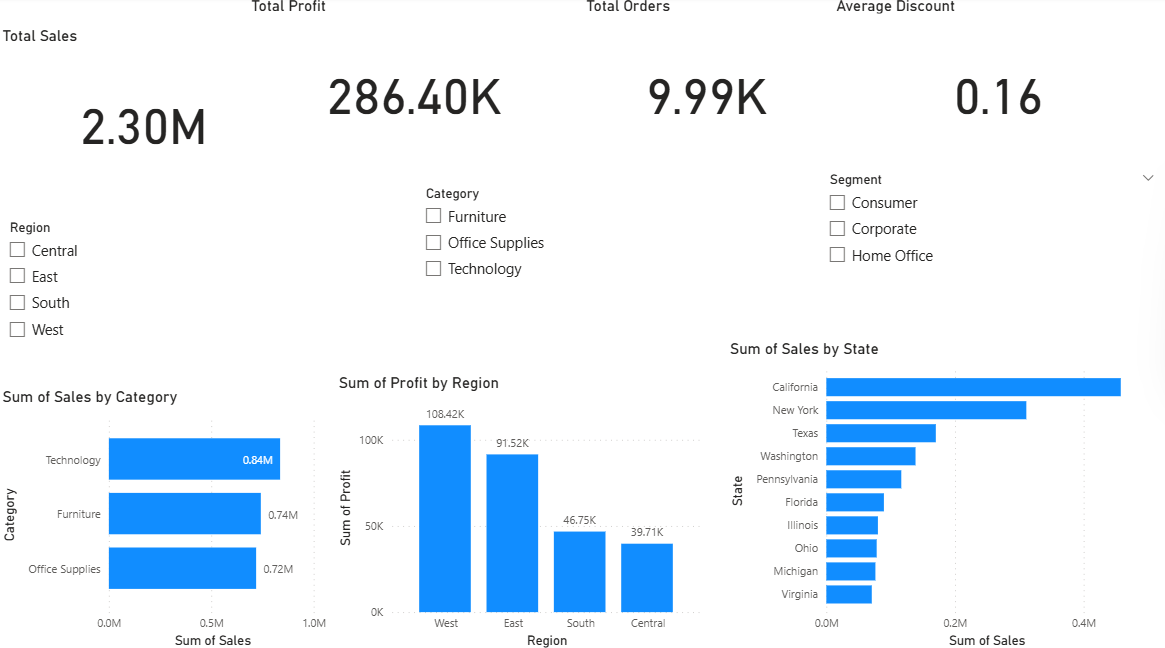

The dashboard page shown, as its layout file describes it:
{"tool":"powerbi","page":{"name":"Page 1","canvas":[1280,720],"ordinal":0},"visuals":[{"type":"card","title":"Total Sales","fields":{"Values":["Sum(cleaned_superstore.Sales)"]},"box":[0,32.9,319.5,187.8],"z":0},{"type":"card","title":"Total Profit","fields":{"Values":["Sum(cleaned_superstore.Profit)"]},"box":[272.8,0,367.4,187.8],"z":1000},{"type":"card","title":"Average Discount","fields":{"Values":["Avg(cleaned_superstore.Discount)"]},"box":[914.5,0,366.1,187.8],"z":2000},{"type":"card","title":"Total Orders","fields":{"Values":["CountNonNull(cleaned_superstore.Sales)"]},"box":[640.3,0,274.2,187.8],"z":3000},{"type":"clusteredBarChart","fields":{"Category":["cleaned_superstore.Category"],"Y":["Sum(cleaned_superstore.Sales)"]},"box":[0,429.1,368.8,290.7],"z":3001},{"type":"clusteredColumnChart","fields":{"Category":["cleaned_superstore.Region"],"Y":["Sum(cleaned_superstore.Profit)"]},"box":[368.8,414.1,408.6,305.7],"z":3002},{"type":"clusteredBarChart","fields":{"Category":["cleaned_superstore.State"],"Y":["Sum(cleaned_superstore.Sales)"]},"box":[797.9,377,482.6,342.8],"z":3003},{"type":"slicer","fields":{"Values":["cleaned_superstore.Region"]},"box":[0,239.9,357.8,174.1],"z":3004},{"type":"slicer","fields":{"Values":["cleaned_superstore.Category"]},"box":[456.6,202.9,319.5,174.1],"z":3005},{"type":"slicer","fields":{"Values":["cleaned_superstore.Segment"]},"box":[899.4,187.8,381.2,149.4],"z":3006}]}

Visuals, with their boxes in screenshot pixels (x1, y1, x2, y2), scaled from the page's 1280x720 canvas onto the 1165x648 screenshot:
"Total Sales" card: 0,30,291,199
"Total Profit" card: 248,0,583,169
"Average Discount" card: 832,0,1164,169
"Total Orders" card: 583,0,832,169
clusteredBarChart - cleaned_superstore.Category x Sum(cleaned_superstore.Sales): 0,386,336,647
clusteredColumnChart - cleaned_superstore.Region x Sum(cleaned_superstore.Profit): 336,373,708,647
clusteredBarChart - cleaned_superstore.State x Sum(cleaned_superstore.Sales): 726,339,1164,647
slicer - cleaned_superstore.Region: 0,216,326,373
slicer - cleaned_superstore.Category: 416,183,706,339
slicer - cleaned_superstore.Segment: 819,169,1164,303
